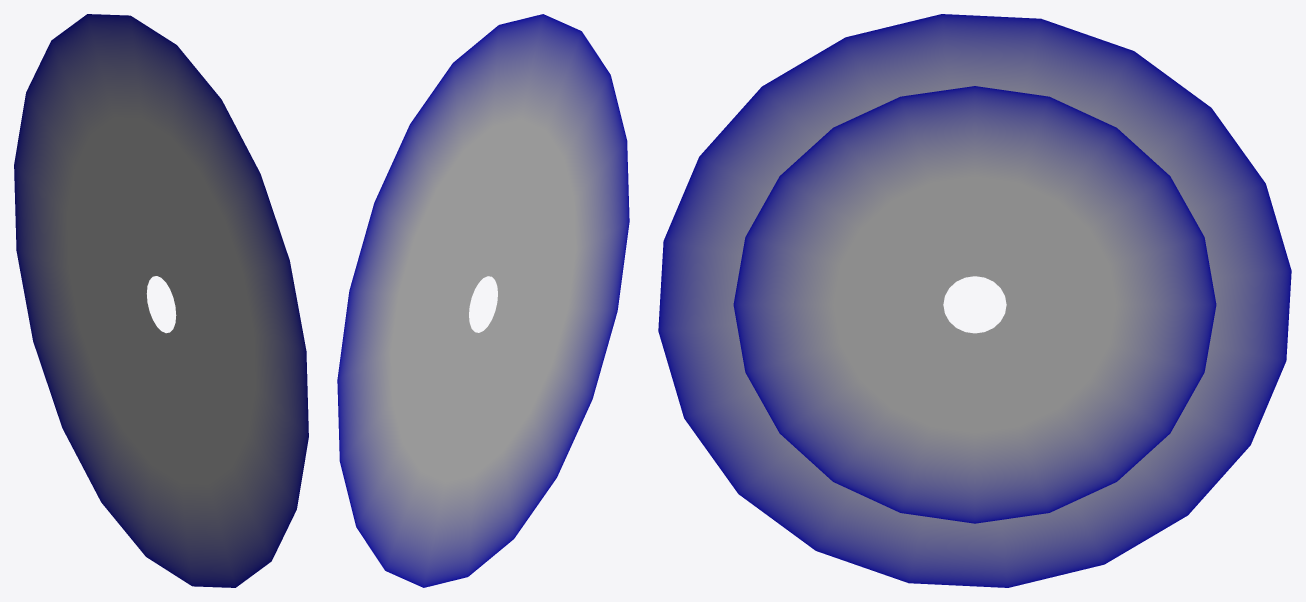
File: ChAura1.fbx
3 renders of one model, left to right at view 1: azimuth 30°, elevation 25°; view 2: azimuth 150°, elevation 25°; view 3: azimuth 270°, elevation 25°, orthographic. The views are drawn at different scales.
Parts seen in each view (by area): view 1: SM_e_Useful_ChAura001; view 2: SM_e_Useful_ChAura001; view 3: SM_e_Useful_ChAura001.
Part boxes in pixels (bbox=[...]): SM_e_Useful_ChAura001: bbox=[14, 14, 308, 587]; SM_e_Useful_ChAura001: bbox=[337, 14, 629, 587]; SM_e_Useful_ChAura001: bbox=[658, 14, 1291, 587].
Bounding box in the file's own units: 0.00181 × 896 × 896.
